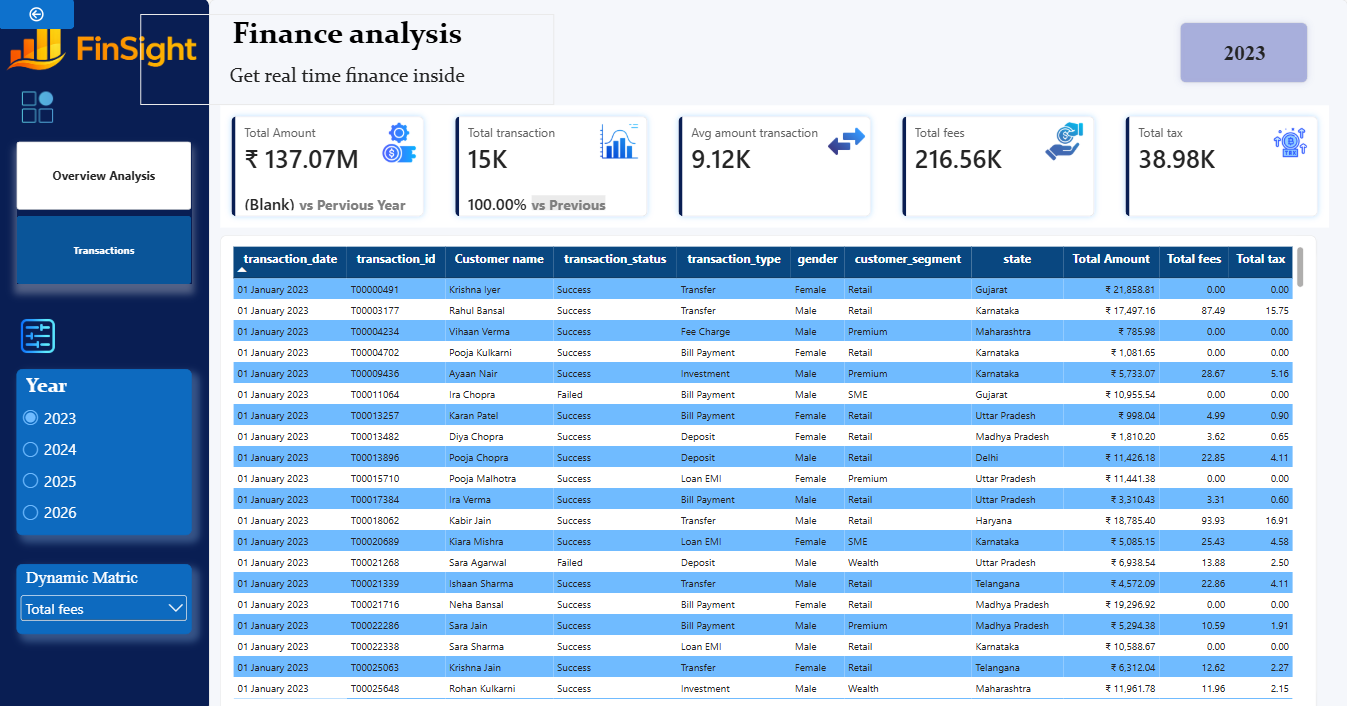

Layout of this report page (visuals, bound fields, positions):
{"tool":"powerbi","page":{"name":"Transactions","canvas":[1800,950],"ordinal":1},"visuals":[{"type":"shape","box":[0,0,280,950],"z":0},{"type":"shape","box":[280,0,1520,950],"z":1000},{"type":"image","box":[0,0,280,122],"z":2000},{"type":"textbox","title":"Finance analysis","box":[188,20,552,122],"z":3000},{"type":"cardVisual","fields":{"Data":["finance_transactions.Total Amount","finance_transactions.Total transaction","finance_transactions.Avg amount tran","finance_transactions.Total fees","finance_transactions.Total tax"]},"box":[295,141.7,1481.7,163.3],"z":4000},{"type":"image","box":[496.2,151.5,73.1,53.1],"z":5000},{"type":"image","box":[797.5,151.2,73.1,53.1],"z":6000},{"type":"image","box":[1092.5,151.2,73.1,53.1],"z":7000},{"type":"image","box":[1383.3,151.7,73.1,53.1],"z":8000},{"type":"image","box":[1683.3,151.7,73.1,53.1],"z":9000},{"type":"cardVisual","fields":{"Data":["finance_transactions.Selected year"]},"box":[1563.3,20,193.3,103.3],"z":10000},{"type":"shape","box":[295,315,1462.5,635],"z":11000},{"type":"tableEx","fields":{"Values":["finance_transactions.transaction_date","finance_transactions.transaction_id","customers.Customer name","finance_transactions.transaction_status","finance_transactions.transaction_type","customers.gender","customers.customer_segment","customers.state","finance_transactions.Total Amount","finance_transactions.Total fees","finance_transactions.Total tax"]},"box":[295,315,1461.7,635],"z":12000},{"type":"actionButton","box":[0,0,100,40],"z":13000},{"type":"slicer","fields":{"Values":["Calender Table.Year"]},"box":[23.3,493.3,233.3,221.7],"z":14000},{"type":"pageNavigator","box":[23.3,190,233.3,190],"z":15000},{"type":"image","box":[23.3,123.3,56.7,41.7],"z":16000},{"type":"image","box":[23.3,423.3,56.7,51.7],"z":17000}]}

Visuals, with their boxes on the page's 1800x950 design canvas (x1, y1, x2, y2). These are canvas units, not pixel positions in the 1347x706 screenshot, which may show the page scaled, cropped or inside an application window:
shape: 0 0 280 950
shape: 280 0 1800 950
image: 0 0 280 122
"Finance analysis" textbox: 188 20 740 142
cardVisual - finance_transactions.Total Amount x finance_transactions.Total transaction: 295 142 1777 305
image: 496 152 569 205
image: 798 151 871 204
image: 1092 151 1166 204
image: 1383 152 1456 205
image: 1683 152 1756 205
cardVisual - finance_transactions.Selected year: 1563 20 1757 123
shape: 295 315 1758 950
tableEx - finance_transactions.transaction_date x finance_transactions.transaction_id: 295 315 1757 950
actionButton: 0 0 100 40
slicer - Calender Table.Year: 23 493 257 715
pageNavigator: 23 190 257 380
image: 23 123 80 165
image: 23 423 80 475
